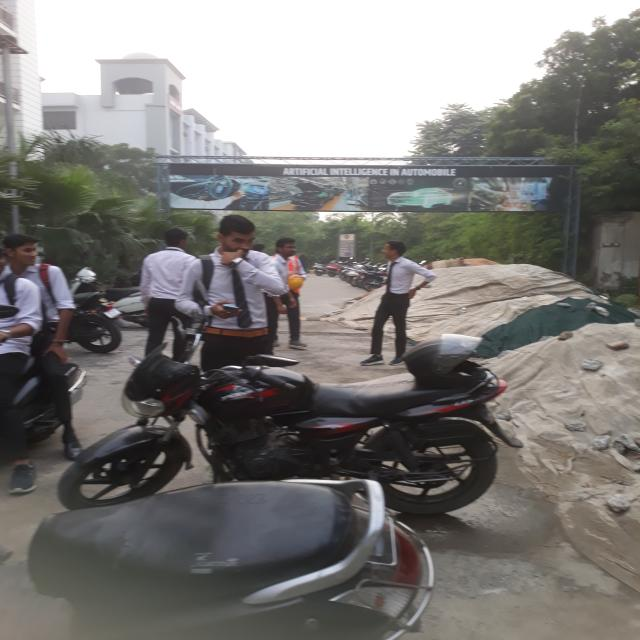unsafe: (2, 233, 84, 456), (191, 213, 292, 366), (136, 225, 200, 360), (363, 239, 412, 365), (271, 237, 294, 351)
